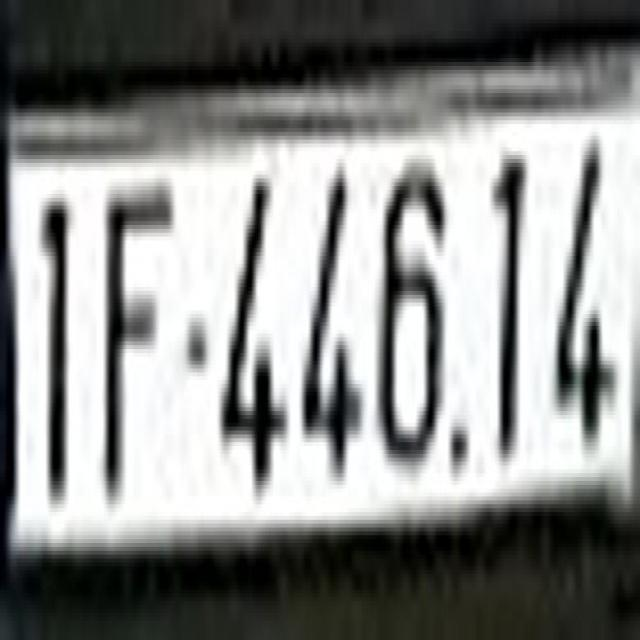1: (40, 190, 70, 485), (495, 147, 523, 450)
4: (226, 182, 284, 508), (304, 151, 358, 485), (556, 143, 610, 454)
6: (383, 155, 439, 454)
F: (102, 163, 173, 496)
